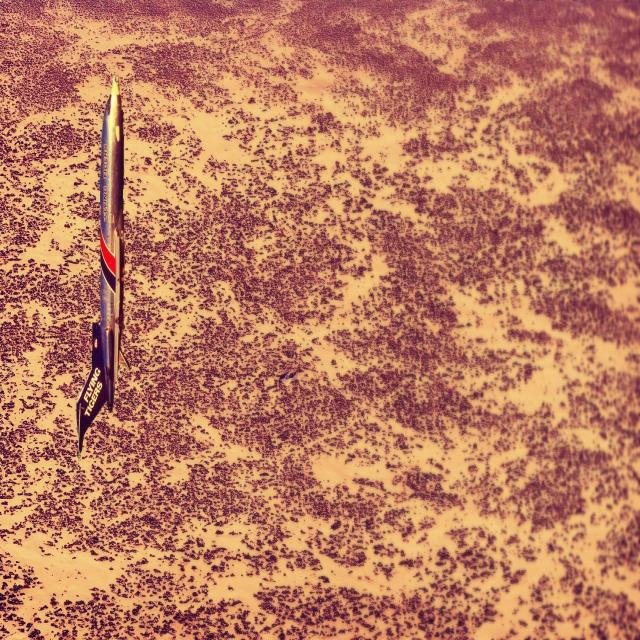airplane: (75, 72, 130, 458)
